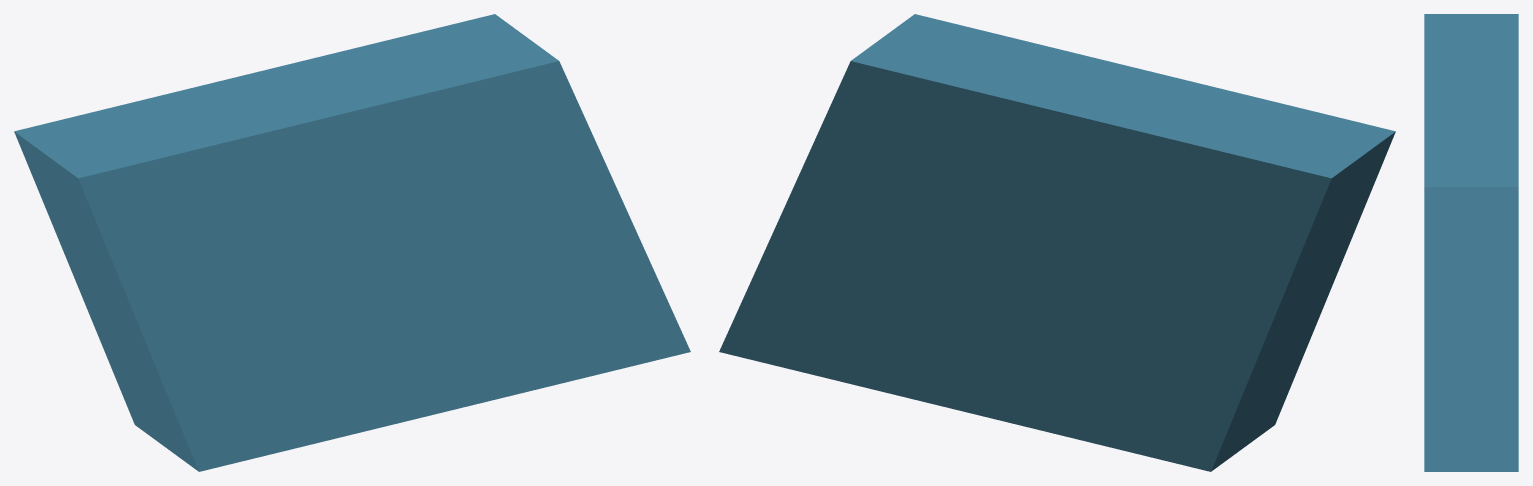
Rendered from NexusA_Trigger_35.fbx.
3 renders of one model, left to right at view 1: azimuth 30°, elevation 25°; view 2: azimuth 150°, elevation 25°; view 3: azimuth 270°, elevation 25°, orthographic. The views are drawn at different scales.
Visible parts, largest first — view 1: pCube10; view 2: pCube10; view 3: pCube10.
Part boxes in pixels (<box>): pCube10: <box>14,14,690,471</box>; pCube10: <box>719,14,1395,471</box>; pCube10: <box>1424,14,1518,471</box>.
Size of the model in its own units: 52.52 by 26.46 by 9.54.
